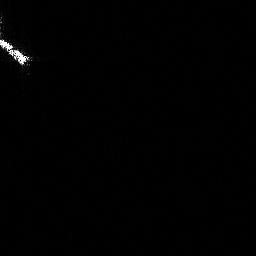ship: (1, 37, 32, 68)
